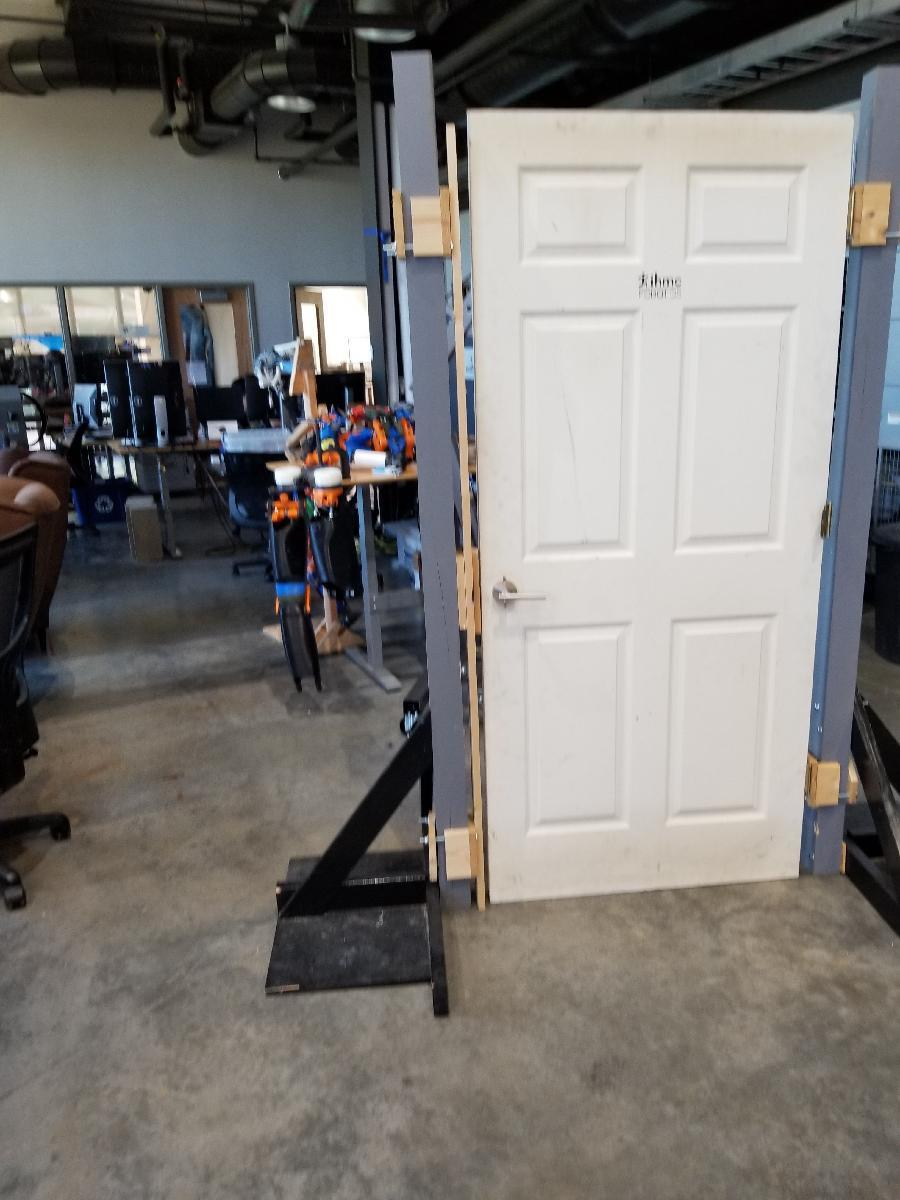door: (466, 108, 809, 891)
handle: (488, 570, 556, 614)
